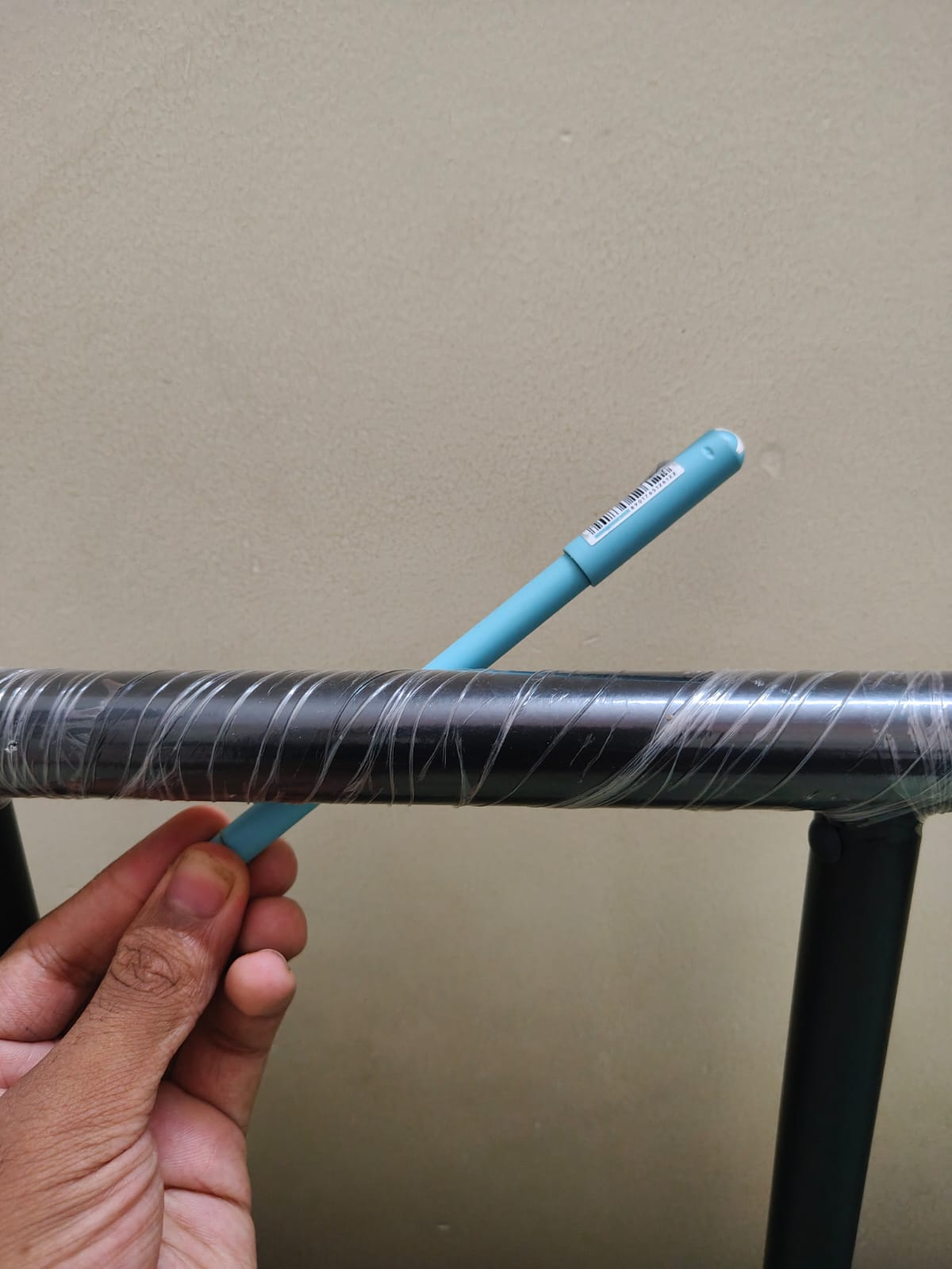pen: (225, 418, 779, 857)
